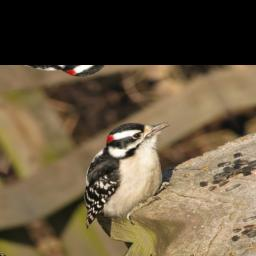Woodpecker: (41, 110, 215, 241)
